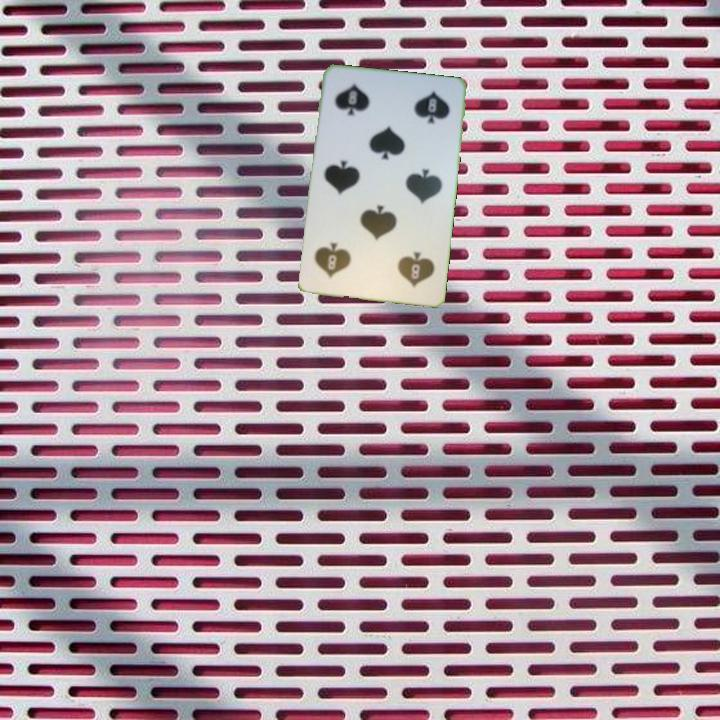s_8.png: (324, 74, 397, 138), (369, 233, 441, 297)
